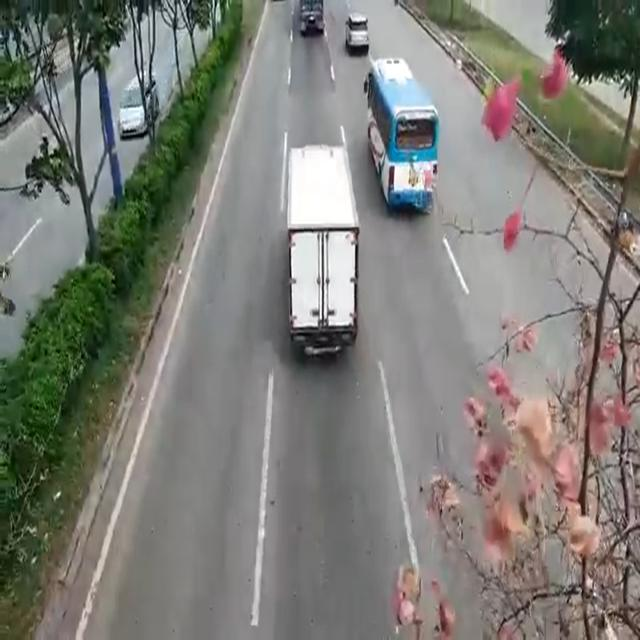bus: (368, 58, 440, 207)
car: (345, 14, 368, 49)
truck: (287, 141, 359, 351)
